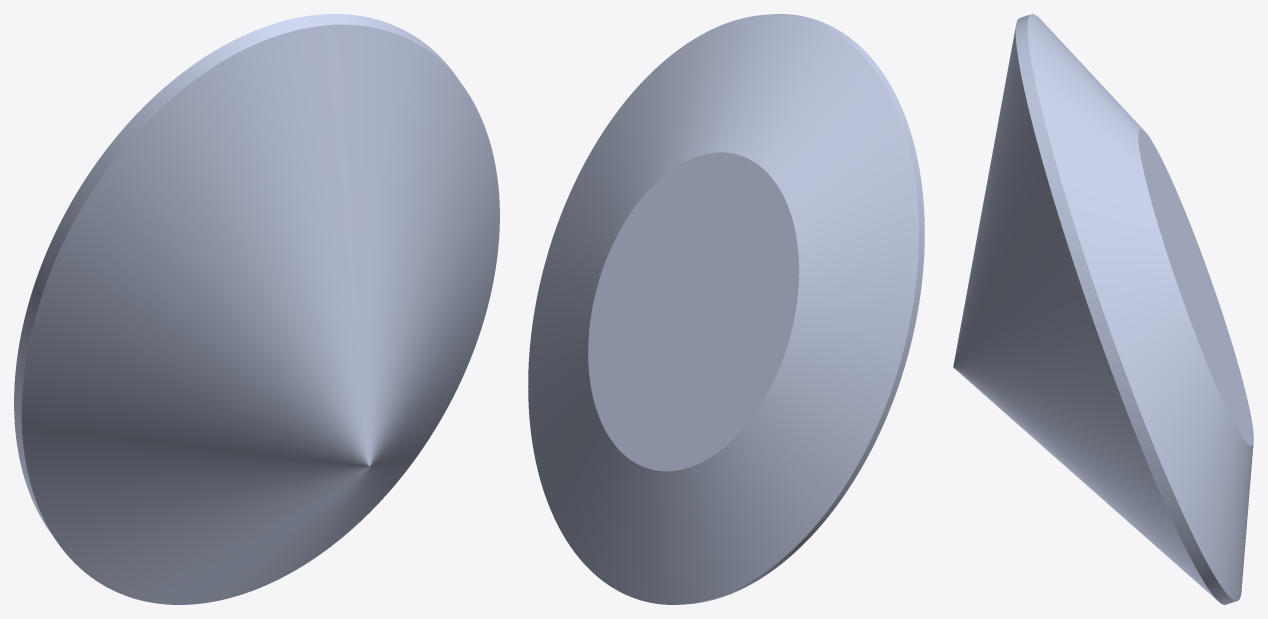
3 views of the same model, side by side, from view 1: azimuth 30°, elevation 25°; view 2: azimuth 150°, elevation 25°; view 3: azimuth 270°, elevation 25° (orthographic). The views are drawn at different scales.
Visible parts, largest first — view 1: nodes[1]; view 2: nodes[1]; view 3: nodes[1].
Part boxes in pixels (x1,y1,x2,y2): nodes[1]: [14, 14, 499, 604]; nodes[1]: [528, 14, 924, 604]; nodes[1]: [953, 14, 1253, 604].
Size of the model in its own units: 0.0133 by 0.0184 by 0.00935.
